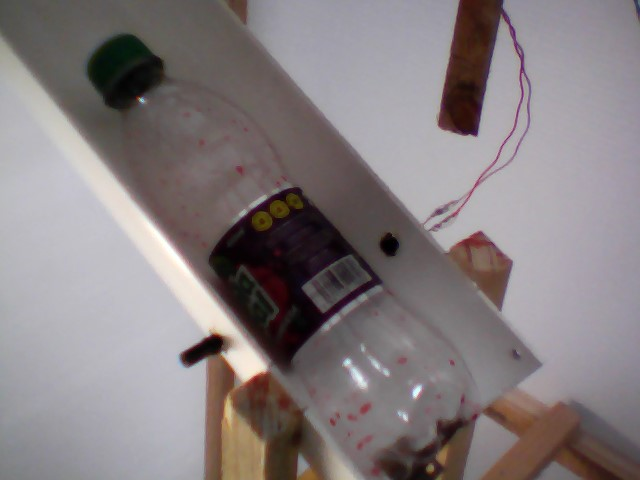plastico: (80, 25, 489, 480)
